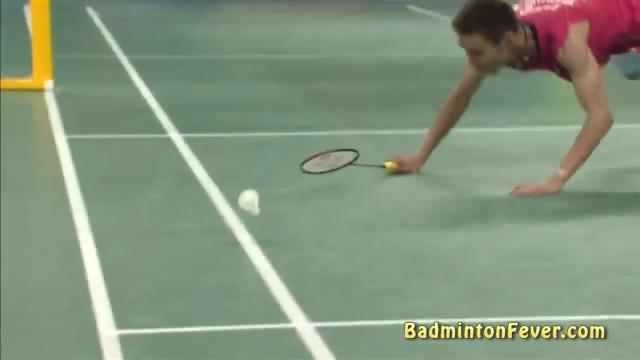Shuttlecock: (230, 182, 266, 220)
